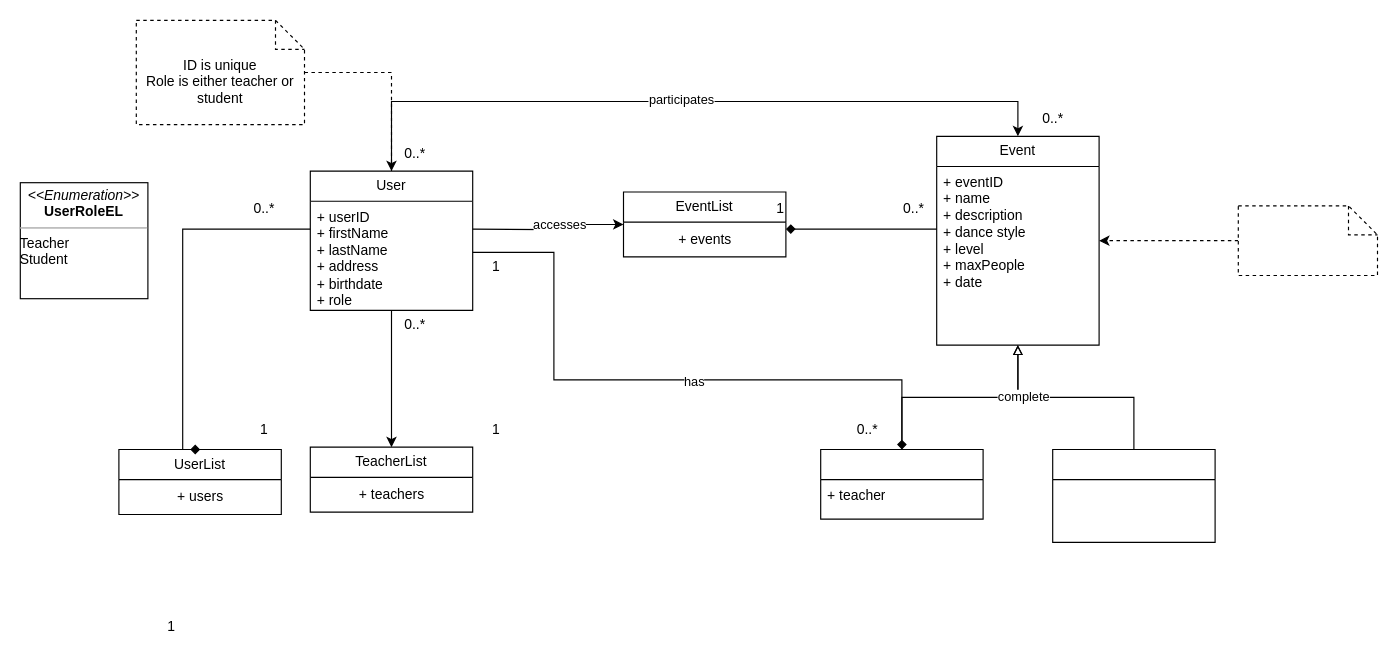
The diagram is 1398 pixels wide and 665 high, and some of its shapes have lost their labels. Here are the shapes that lost their labels. From the top down, the box of each, then its label:
(1237, 205, 1378, 276): ID is unique
(820, 448, 983, 519): Class
(1052, 448, 1215, 542): Party
